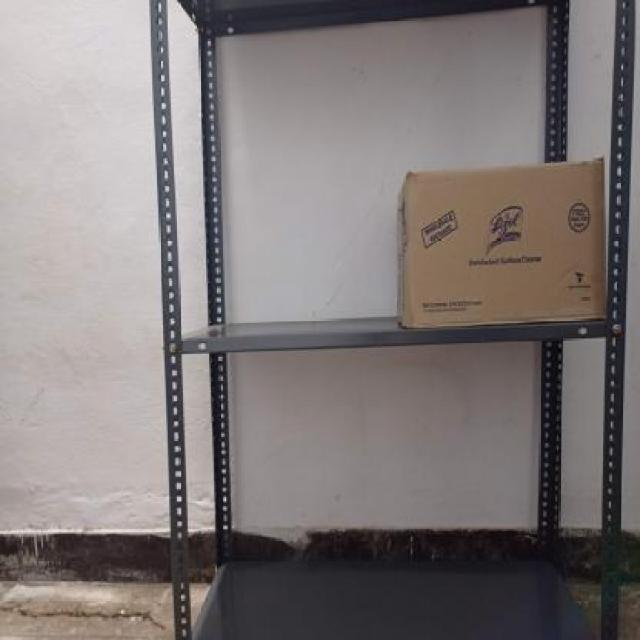box: (404, 168, 607, 322)
